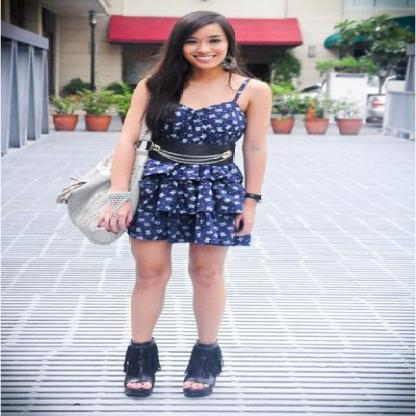dress: (127, 99, 261, 249)
shoe: (122, 341, 272, 399)
